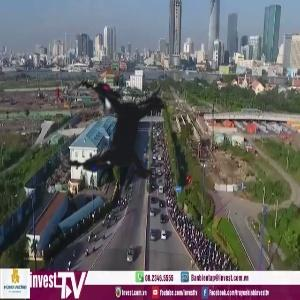drone: (10, 27, 234, 251)
